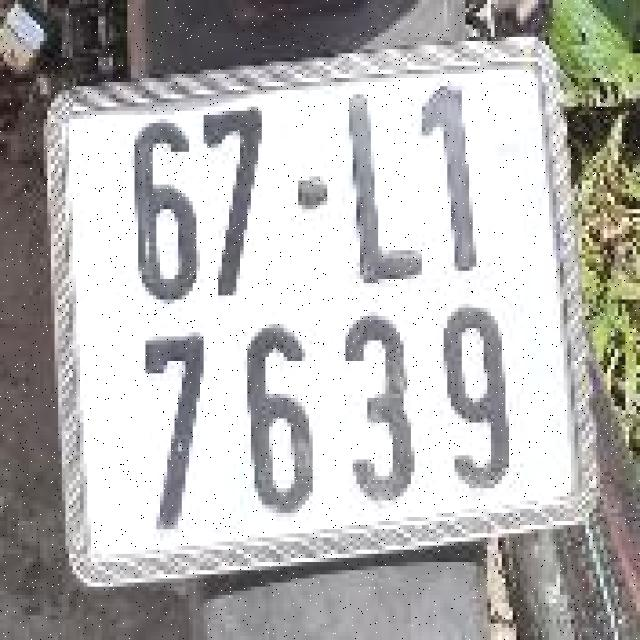1: (418, 60, 491, 281)
3: (325, 306, 431, 510)
6: (231, 314, 333, 515), (113, 100, 207, 314)
7: (133, 314, 216, 535), (189, 94, 269, 304)
9: (422, 291, 531, 505)
L: (337, 74, 428, 291)
